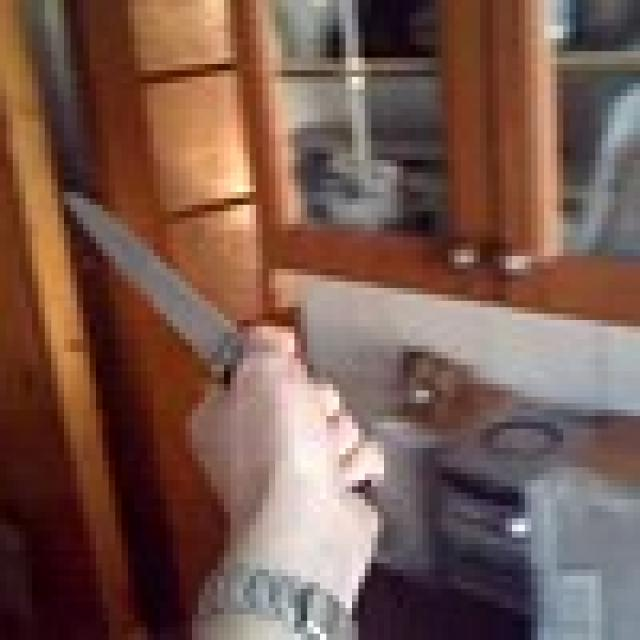Weapons: (52, 172, 260, 398)
